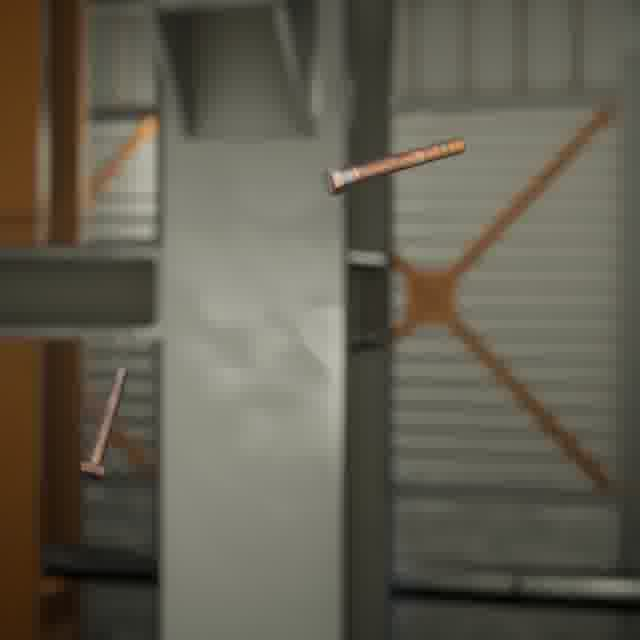bolt: (318, 133, 469, 200), (74, 362, 133, 485)
